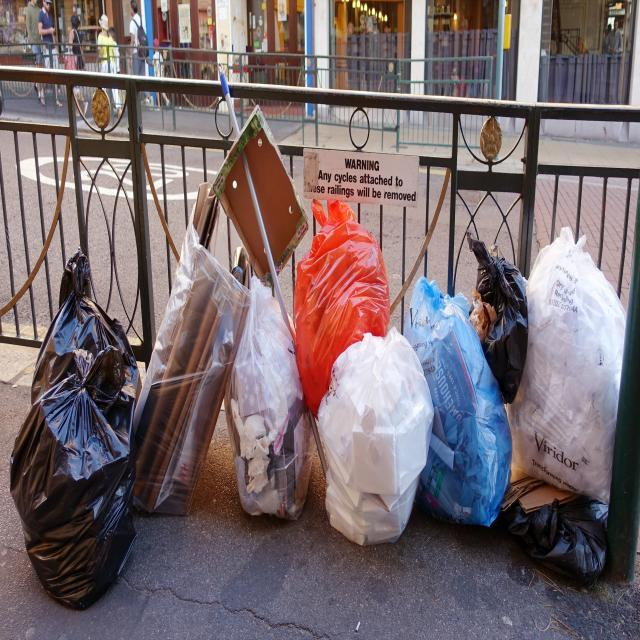garbage: (140, 63, 315, 540), (404, 230, 624, 588), (292, 182, 432, 552), (8, 233, 138, 615)
